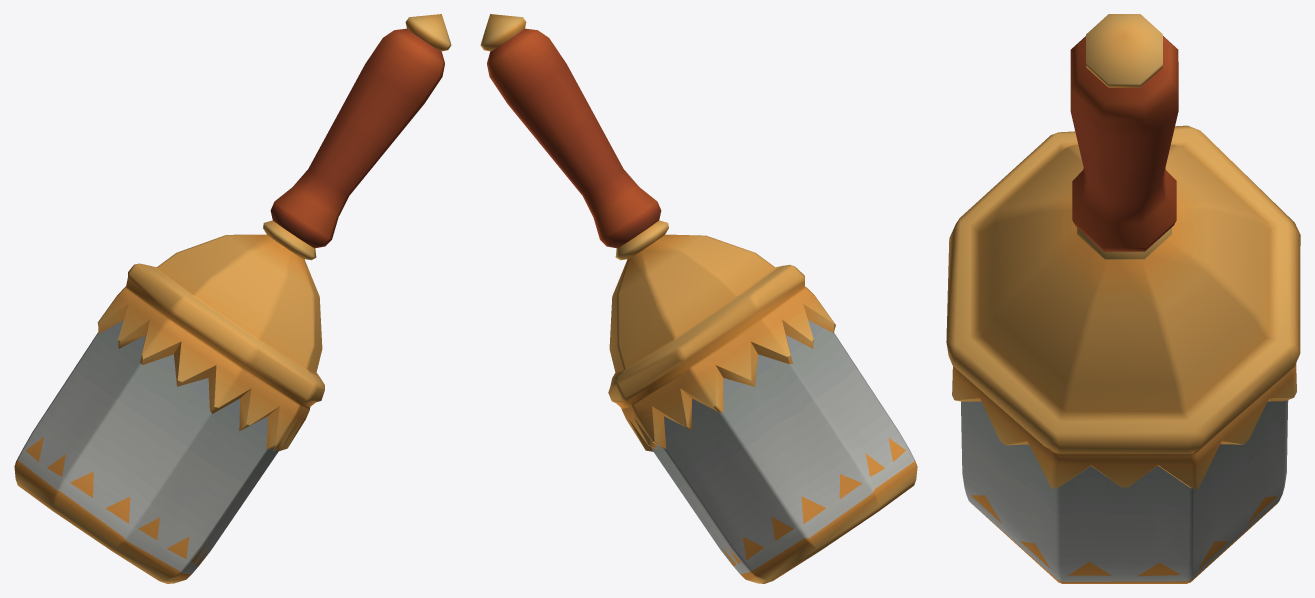
The model's file is CharSkyKid_Prop_AP02Bell_01.glb.
3 views of the same model, side by side, from view 1: azimuth 30°, elevation 25°; view 2: azimuth 150°, elevation 25°; view 3: azimuth 270°, elevation 25° (orthographic). The views are drawn at different scales.
Visible parts, largest first — view 1: CharSkyKid_Prop_AP02Bell_01; view 2: CharSkyKid_Prop_AP02Bell_01; view 3: CharSkyKid_Prop_AP02Bell_01.
Boxes of the visible parts, left/top/right/bottom form: CharSkyKid_Prop_AP02Bell_01: left=14, top=14, right=451, bottom=583; CharSkyKid_Prop_AP02Bell_01: left=480, top=14, right=917, bottom=583; CharSkyKid_Prop_AP02Bell_01: left=946, top=14, right=1300, bottom=583.
Size of the model in its own units: 4.08 by 4.59 by 1.93.
Materials: 1 (1 with a texture image).
